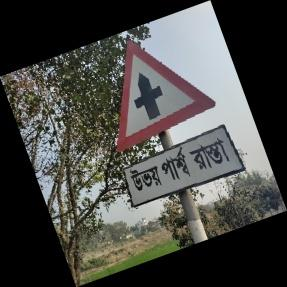Crossroad: (114, 39, 245, 210)
